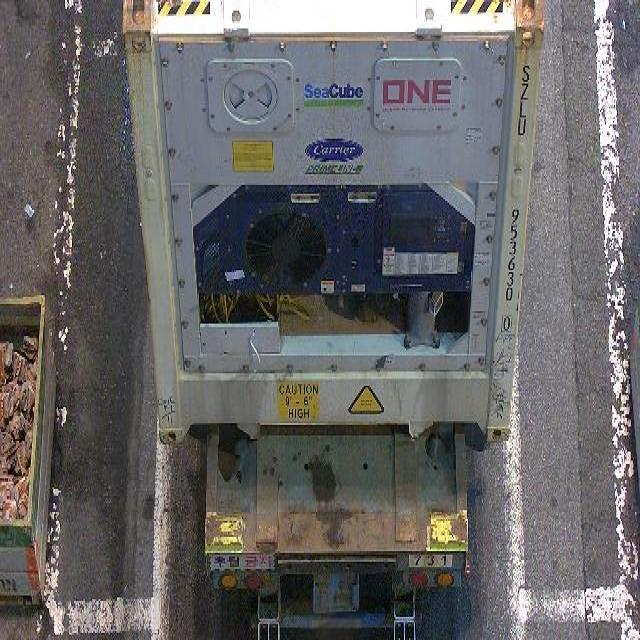container_number: (503, 41, 533, 341)
